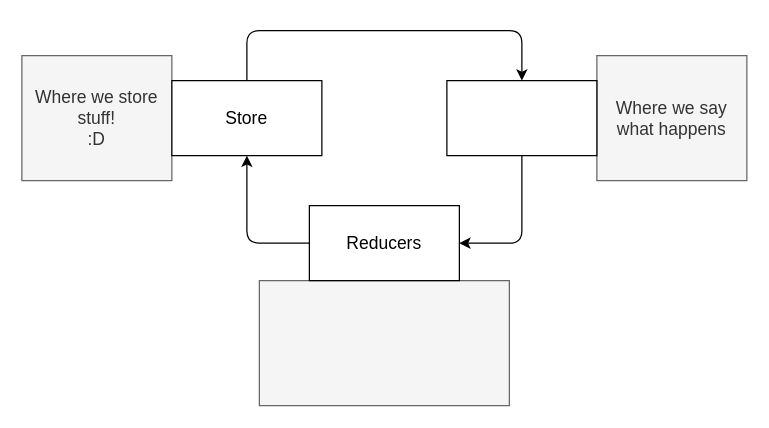
The diagram is 769 pixels wide and 428 high, and some of its shapes have lost their labels. The box of each missing label's shape, as (x1, y1, x2, y2) in pixels:
Actions: (446, 79, 597, 156)
Where things move into the store: (258, 279, 509, 406)
